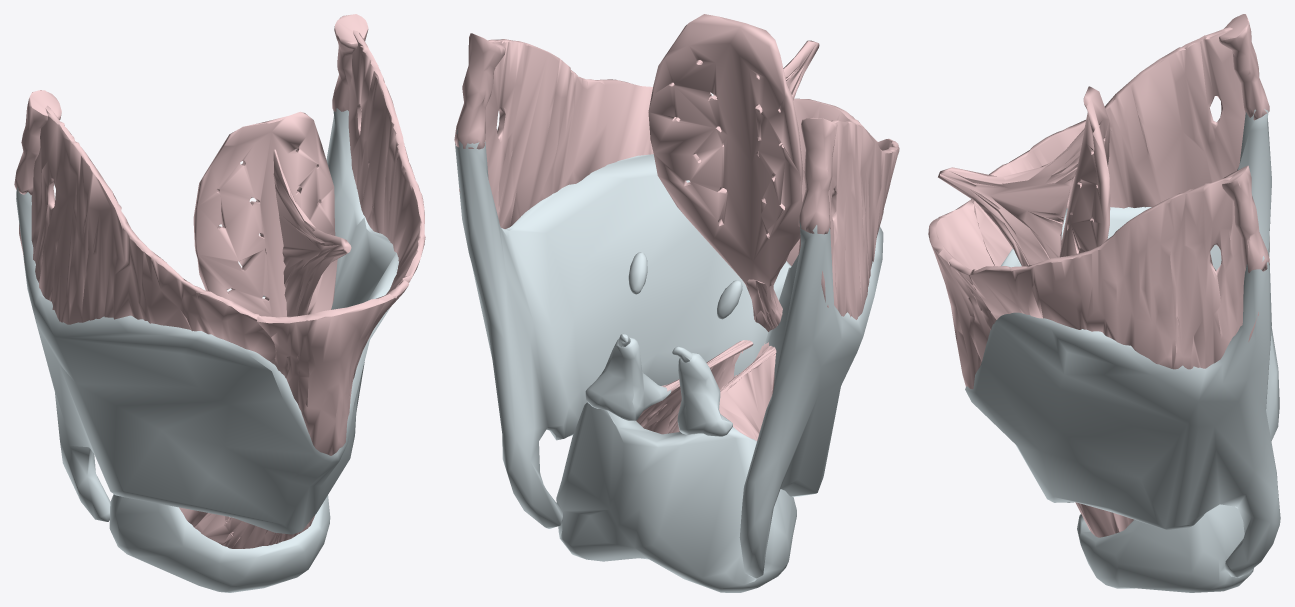
The model's file is respiratoire-cou.lo.glb.
3 views of the same model, side by side, from view 1: azimuth 30°, elevation 25°; view 2: azimuth 150°, elevation 25°; view 3: azimuth 270°, elevation 25° (orthographic). The views are drawn at different scales.
Parts seen in each view (by area): view 1: FJ2808, FJ2804, FJ2770, FJ2769, FJ2786, FJ2790, FJ2771, FJ2797, FJ2779, FJ2794, FJ2789; view 2: FJ2808, FJ2770, FJ2769, FJ2786, FJ2804, FJ2775, FJ2797, FJ2779, FJ2792, FJ2794, FJ2777, FJ2790 (+5 smaller); view 3: FJ2808, FJ2786, FJ2804, FJ2769, FJ2771, FJ2790, FJ2770, FJ2797, FJ2779, FJ2777.
Boxes of the visible parts, box(x1,y1,x2,y2) form: FJ2808: box(16, 108, 398, 534); FJ2804: box(19, 105, 275, 363); FJ2770: box(193, 111, 337, 317); FJ2769: box(109, 494, 330, 592); FJ2786: box(348, 30, 425, 293); FJ2790: box(257, 280, 408, 455); FJ2771: box(273, 149, 351, 316); FJ2797: box(14, 90, 61, 195); FJ2779: box(332, 14, 368, 111); FJ2794: box(179, 507, 254, 548); FJ2789: box(242, 526, 299, 548); FJ2808: box(455, 129, 883, 578); FJ2770: box(648, 14, 803, 290); FJ2769: box(556, 402, 796, 592); FJ2786: box(459, 39, 653, 228); FJ2804: box(821, 120, 899, 319); FJ2775: box(585, 337, 671, 421); FJ2797: box(798, 118, 837, 234); FJ2779: box(454, 33, 505, 149); FJ2792: box(677, 352, 732, 436); FJ2794: box(719, 348, 776, 440); FJ2777: box(636, 342, 740, 434); FJ2790: box(786, 98, 877, 266); FJ2808: box(965, 109, 1280, 577); FJ2786: box(970, 176, 1258, 369); FJ2804: box(971, 27, 1245, 266); FJ2769: box(1077, 504, 1253, 592); FJ2771: box(938, 128, 1084, 266); FJ2790: box(928, 199, 996, 389); FJ2770: box(1059, 86, 1110, 257); FJ2797: box(1219, 14, 1269, 120); FJ2779: box(1222, 165, 1269, 272); FJ2777: box(1077, 503, 1133, 537).
Bounding box in the file's own units: 0.0386 × 0.0517 × 0.0345.
